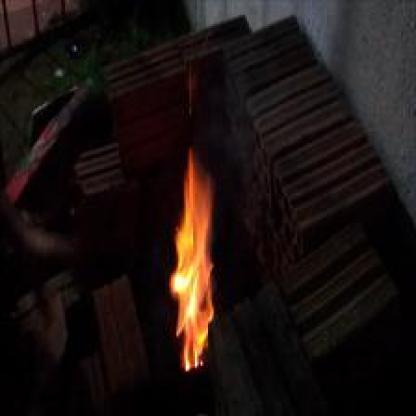fire: (144, 151, 219, 370)
